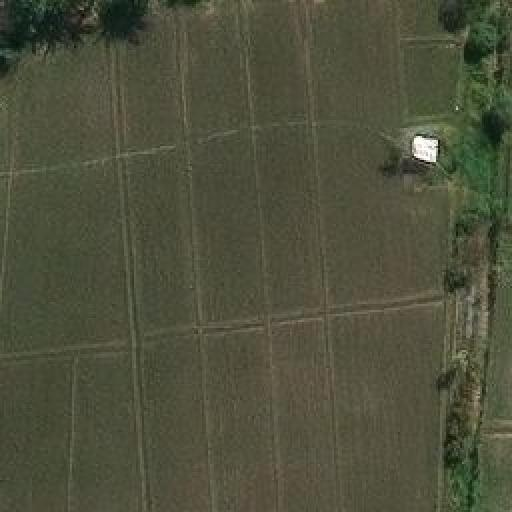manzanas: (405, 131, 441, 167)
